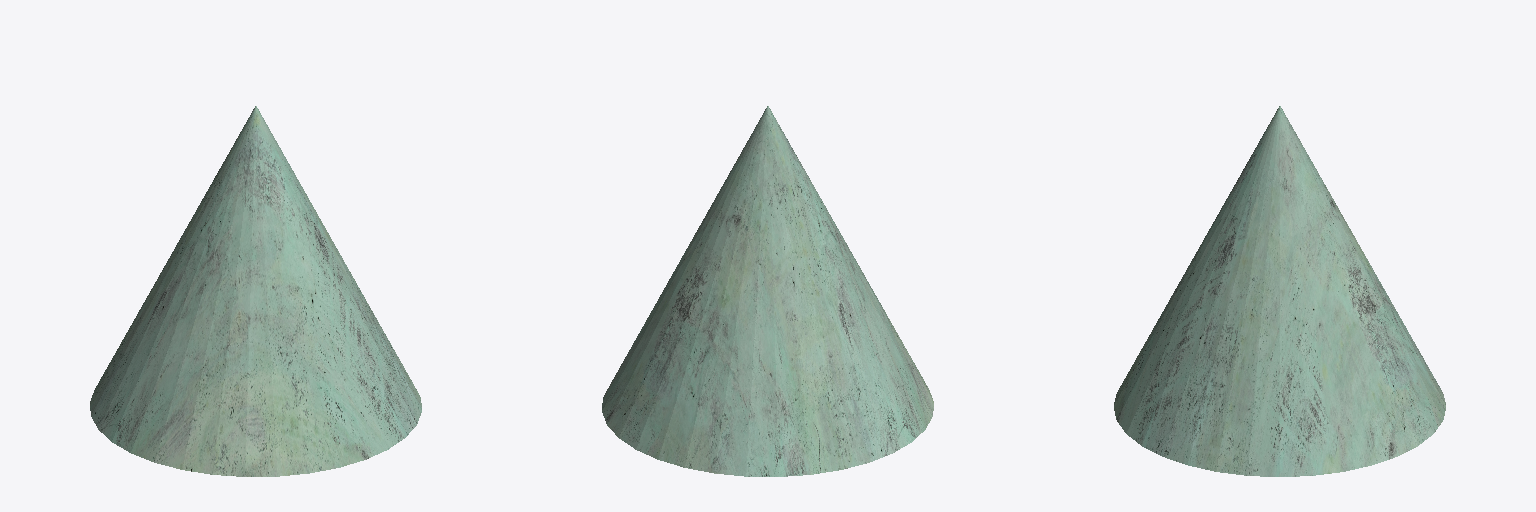
The picture shows the model from 3 angles: view 1: azimuth 30°, elevation 25°; view 2: azimuth 150°, elevation 25°; view 3: azimuth 270°, elevation 25°; orthographic projection.
Parts seen in each view (by area): view 1: Cone; view 2: Cone; view 3: Cone.
Boxes of the visible parts, x1=… form: Cone: x1=90, y1=106, x2=421, y2=476; Cone: x1=602, y1=106, x2=933, y2=476; Cone: x1=1114, y1=106, x2=1445, y2=476.
Size of the model in its own units: 2 by 2 by 2.
1 materials, 1 textured.